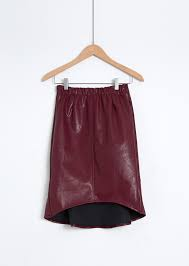C_skirt: (44, 79, 149, 237)
